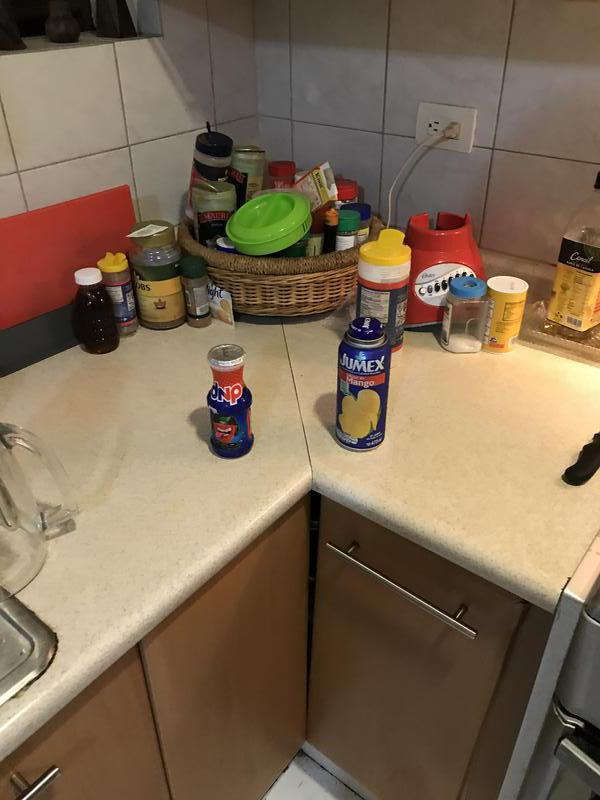danup: (205, 344, 256, 458)
jugo_jumex: (332, 318, 390, 450)
